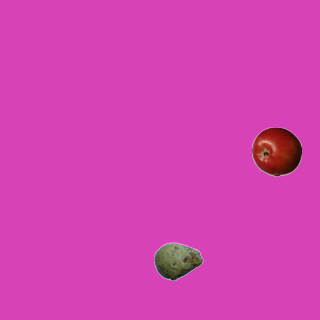Apple Braeburn: (251, 126, 301, 176)
Pear Stone: (153, 236, 203, 286)
